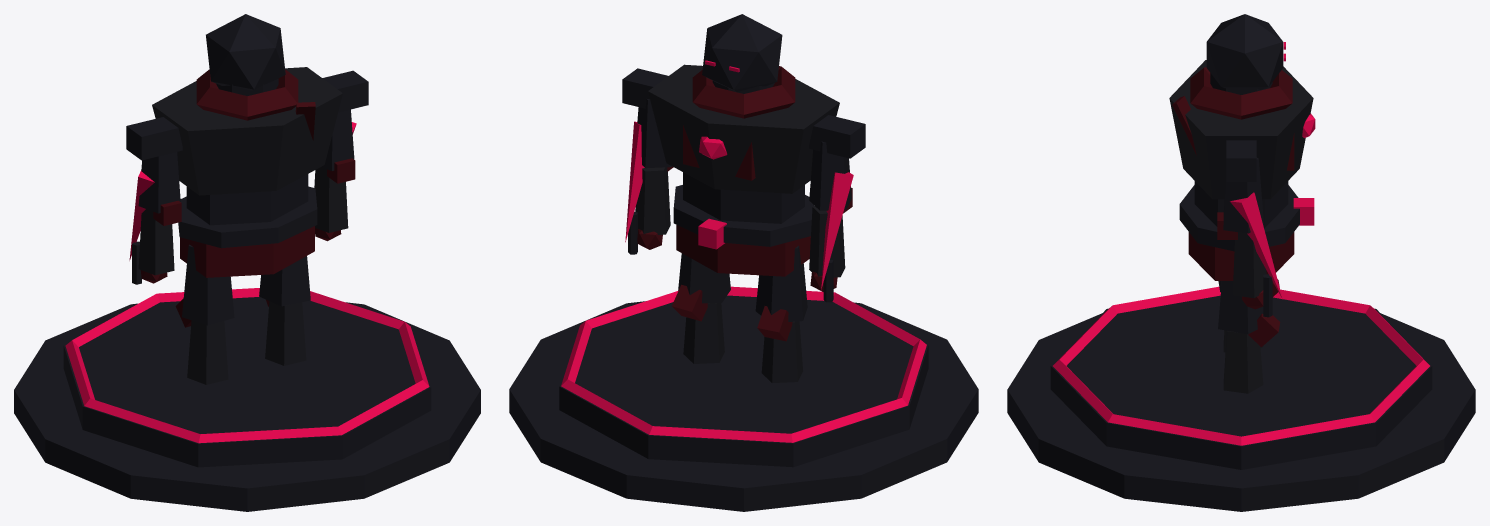
Rendered from wraith.glb.
3 renders of one model, left to right at view 1: azimuth 30°, elevation 25°; view 2: azimuth 150°, elevation 25°; view 3: azimuth 270°, elevation 25°, orthographic.
Parts seen in each view (by area): view 1: Pedestal_Top_3.0, Pedestal_Base_3.0, Umbra_Chest, Pedestal_RuneRing_3.0, Icosphere.017, Umbra_Pelvis, Cylinder.017, Cylinder.018, Cone.032, Cone.033, Cone.035, Torus.009 (+11 smaller); view 2: Pedestal_Top_3.0, Pedestal_Base_3.0, Umbra_Chest, Pedestal_RuneRing_3.0, Icosphere.017, Umbra_Pelvis, Cylinder.018, Cylinder.017, Cone.032, Torus.009, Cone.039, Cone.035 (+14 smaller); view 3: Pedestal_Top_3.0, Pedestal_Base_3.0, Umbra_Chest, Pedestal_RuneRing_3.0, Icosphere.017, Cylinder.017, Cone.035, Torus.009, Umbra_Pelvis, Cone.039, Cone.034, Cone.038 (+5 smaller).
Boxes of the visible parts, x1,y1,x2,y2 form: Pedestal_Top_3.0: (63, 297, 431, 467); Pedestal_Base_3.0: (14, 302, 480, 511); Umbra_Chest: (152, 67, 342, 195); Pedestal_RuneRing_3.0: (65, 288, 429, 443); Icosphere.017: (206, 14, 285, 90); Umbra_Pelvis: (180, 226, 314, 277); Cylinder.017: (178, 186, 317, 248); Cylinder.018: (186, 174, 308, 225); Cone.032: (182, 244, 234, 325); Cone.033: (187, 320, 228, 384); Cone.035: (265, 301, 306, 365); Torus.009: (196, 75, 298, 120); Pedestal_Top_3.0: (559, 295, 928, 467); Pedestal_Base_3.0: (509, 301, 978, 511); Umbra_Chest: (648, 64, 839, 193); Pedestal_RuneRing_3.0: (561, 286, 926, 442); Icosphere.017: (702, 14, 782, 92); Umbra_Pelvis: (676, 224, 810, 276); Cylinder.018: (683, 172, 804, 223); Cylinder.017: (673, 185, 814, 246); Cone.032: (755, 245, 807, 321); Torus.009: (692, 70, 795, 118); Cone.039: (635, 167, 670, 234); Cone.035: (683, 303, 724, 363); Pedestal_Top_3.0: (1050, 295, 1432, 469); Pedestal_Base_3.0: (1007, 313, 1475, 511); Umbra_Chest: (1169, 60, 1313, 199); Pedestal_RuneRing_3.0: (1053, 286, 1429, 445); Icosphere.017: (1206, 14, 1283, 89); Cylinder.017: (1179, 185, 1299, 251); Cone.035: (1223, 330, 1263, 393); Torus.009: (1190, 72, 1292, 119); Umbra_Pelvis: (1188, 232, 1294, 280); Cone.039: (1233, 232, 1266, 298); Cone.034: (1218, 281, 1263, 334); Cone.038: (1223, 157, 1263, 233).
Size of the model in its own units: 2.7 by 2.54 by 2.7.
